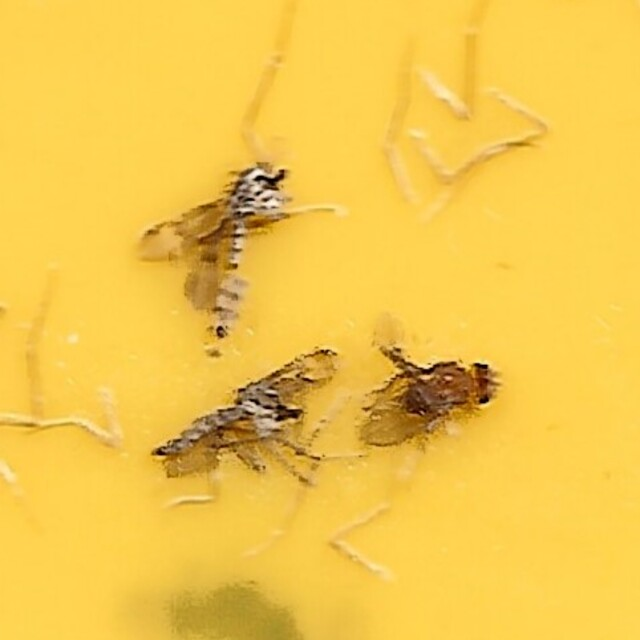Brachycera: (357, 336, 507, 455)
Nematocera: (133, 149, 291, 359), (147, 342, 337, 491)
